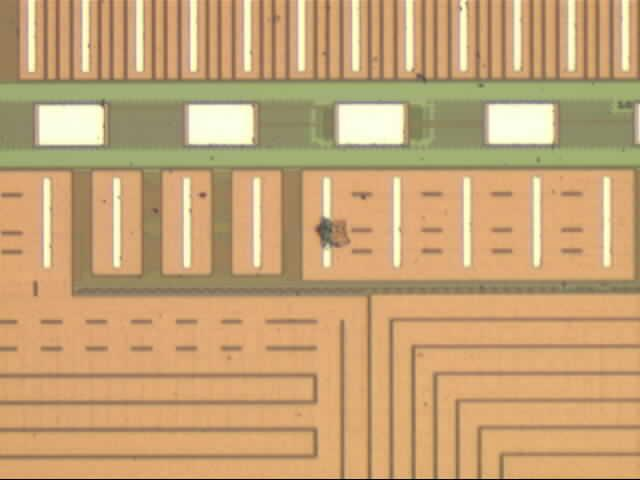PO CONTAMINATION: (81, 1, 638, 426)
